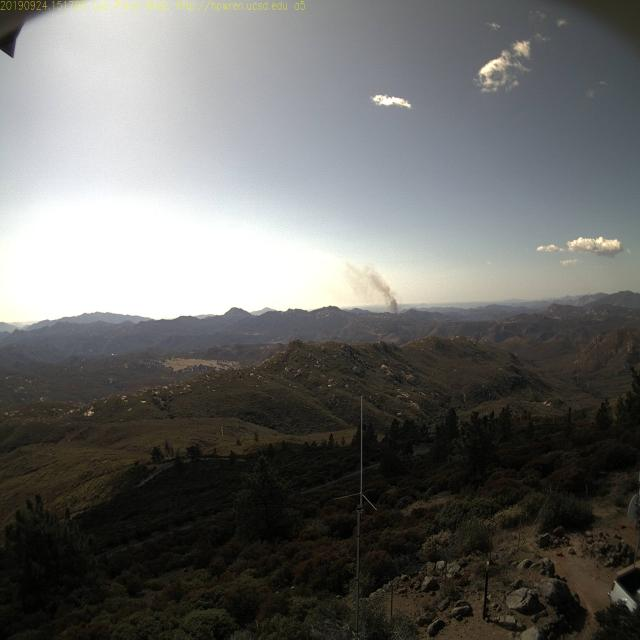smoke: (373, 284, 403, 316)
